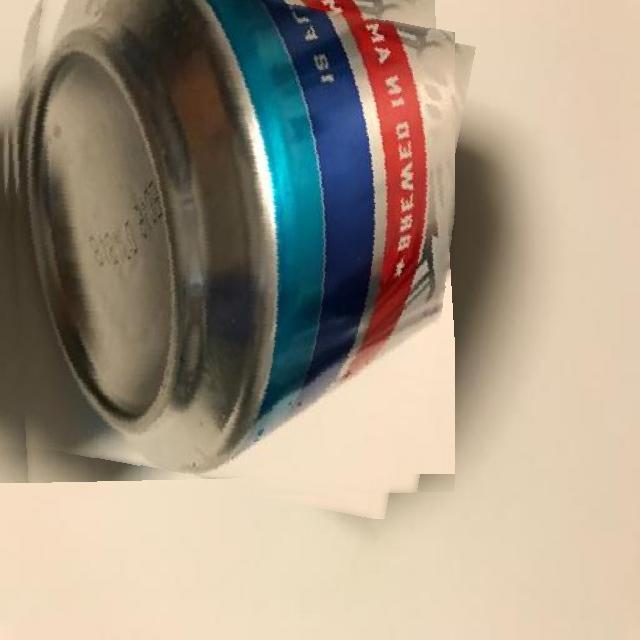recyclable: (0, 0, 455, 501)
